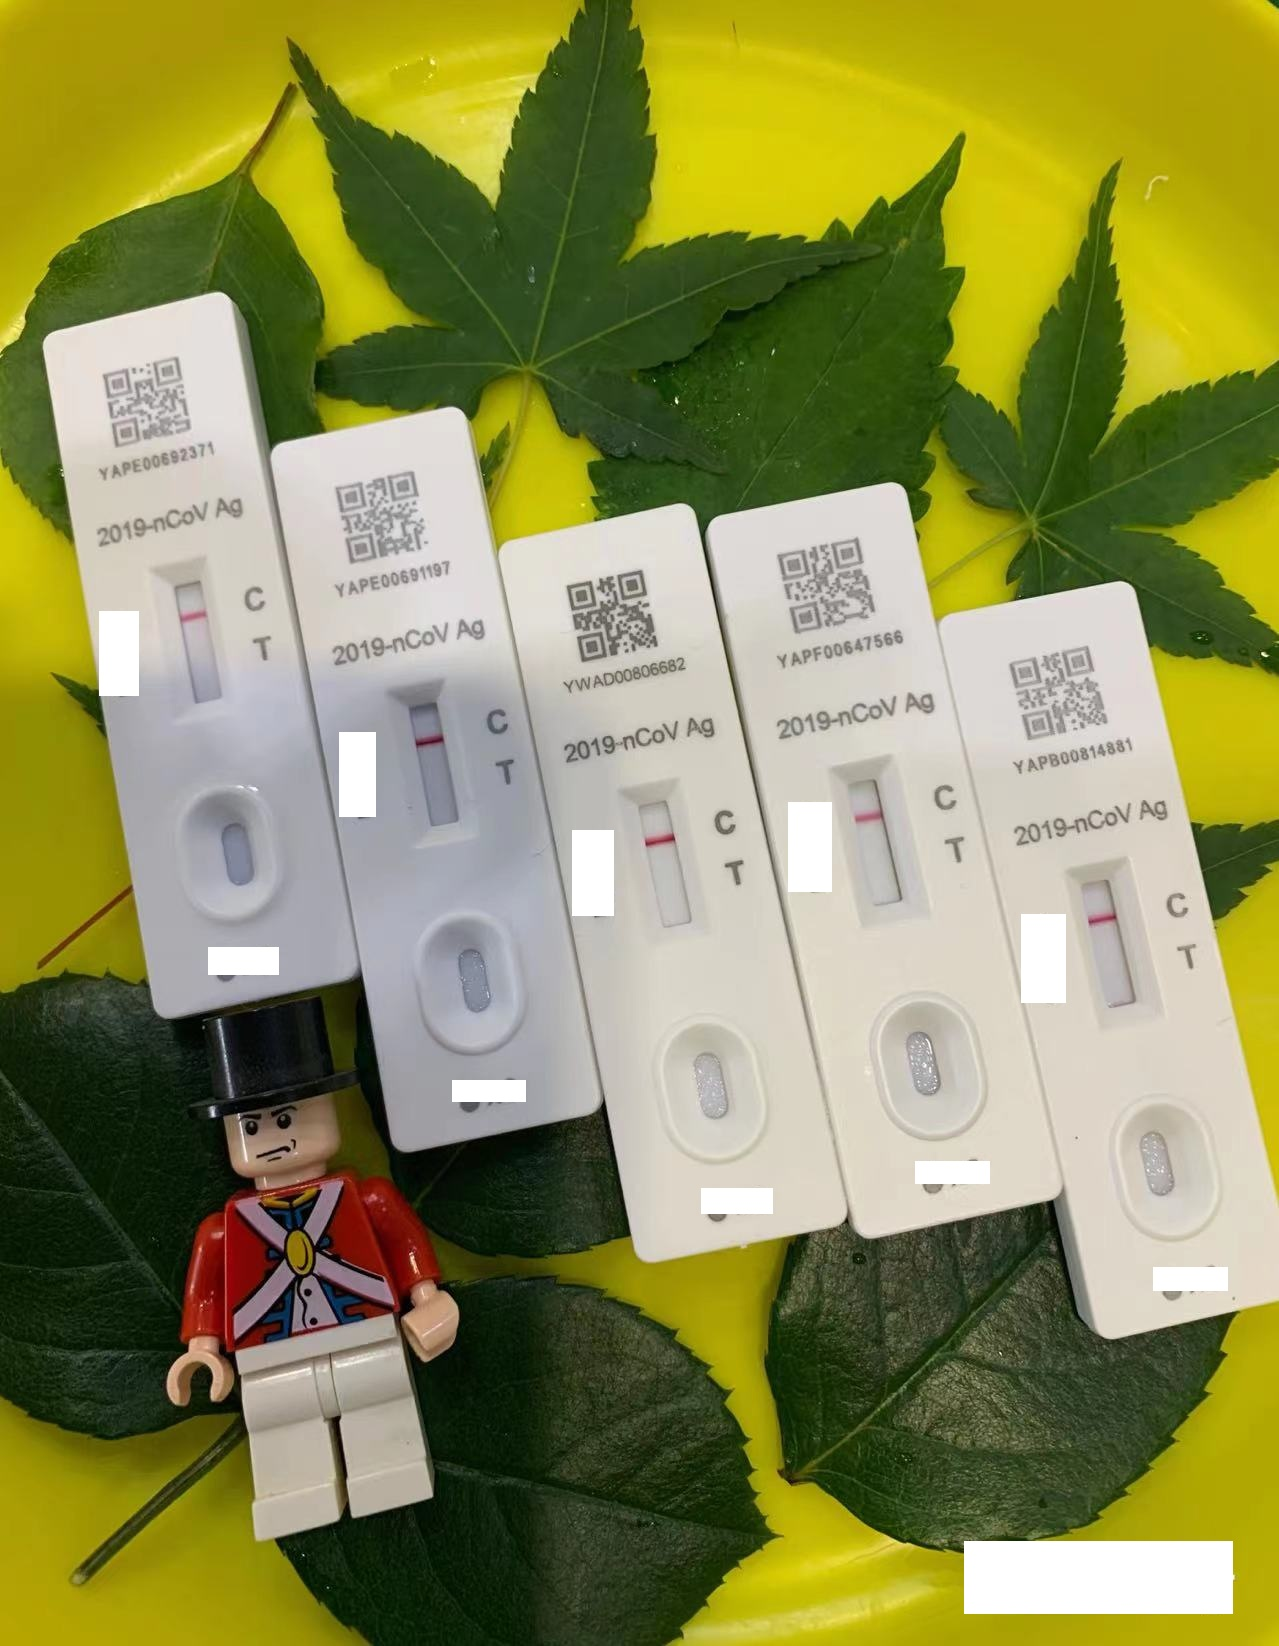negative: (830, 750, 921, 921), (1067, 854, 1151, 1017), (392, 673, 470, 838), (621, 776, 702, 933), (152, 554, 226, 713)
